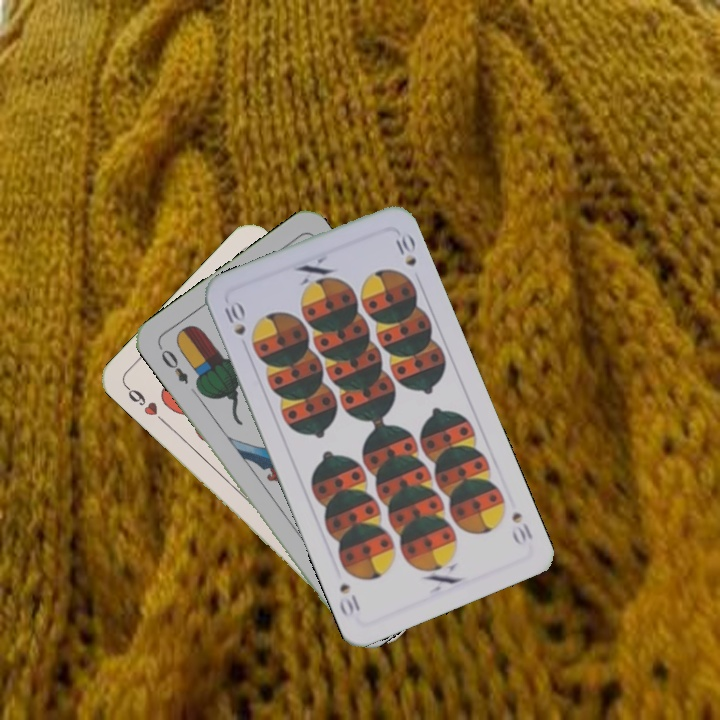EO: (154, 341, 191, 387)
H9: (121, 381, 168, 426)
S10: (507, 507, 536, 548), (220, 299, 248, 338)
